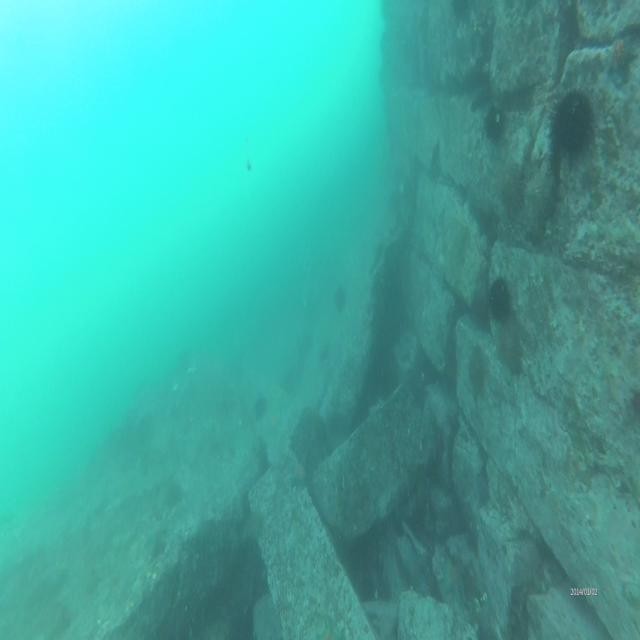echinus: (549, 95, 592, 158), (485, 280, 511, 326), (481, 108, 508, 145), (331, 284, 349, 310), (253, 400, 265, 418)
starfish: (603, 35, 635, 81)
